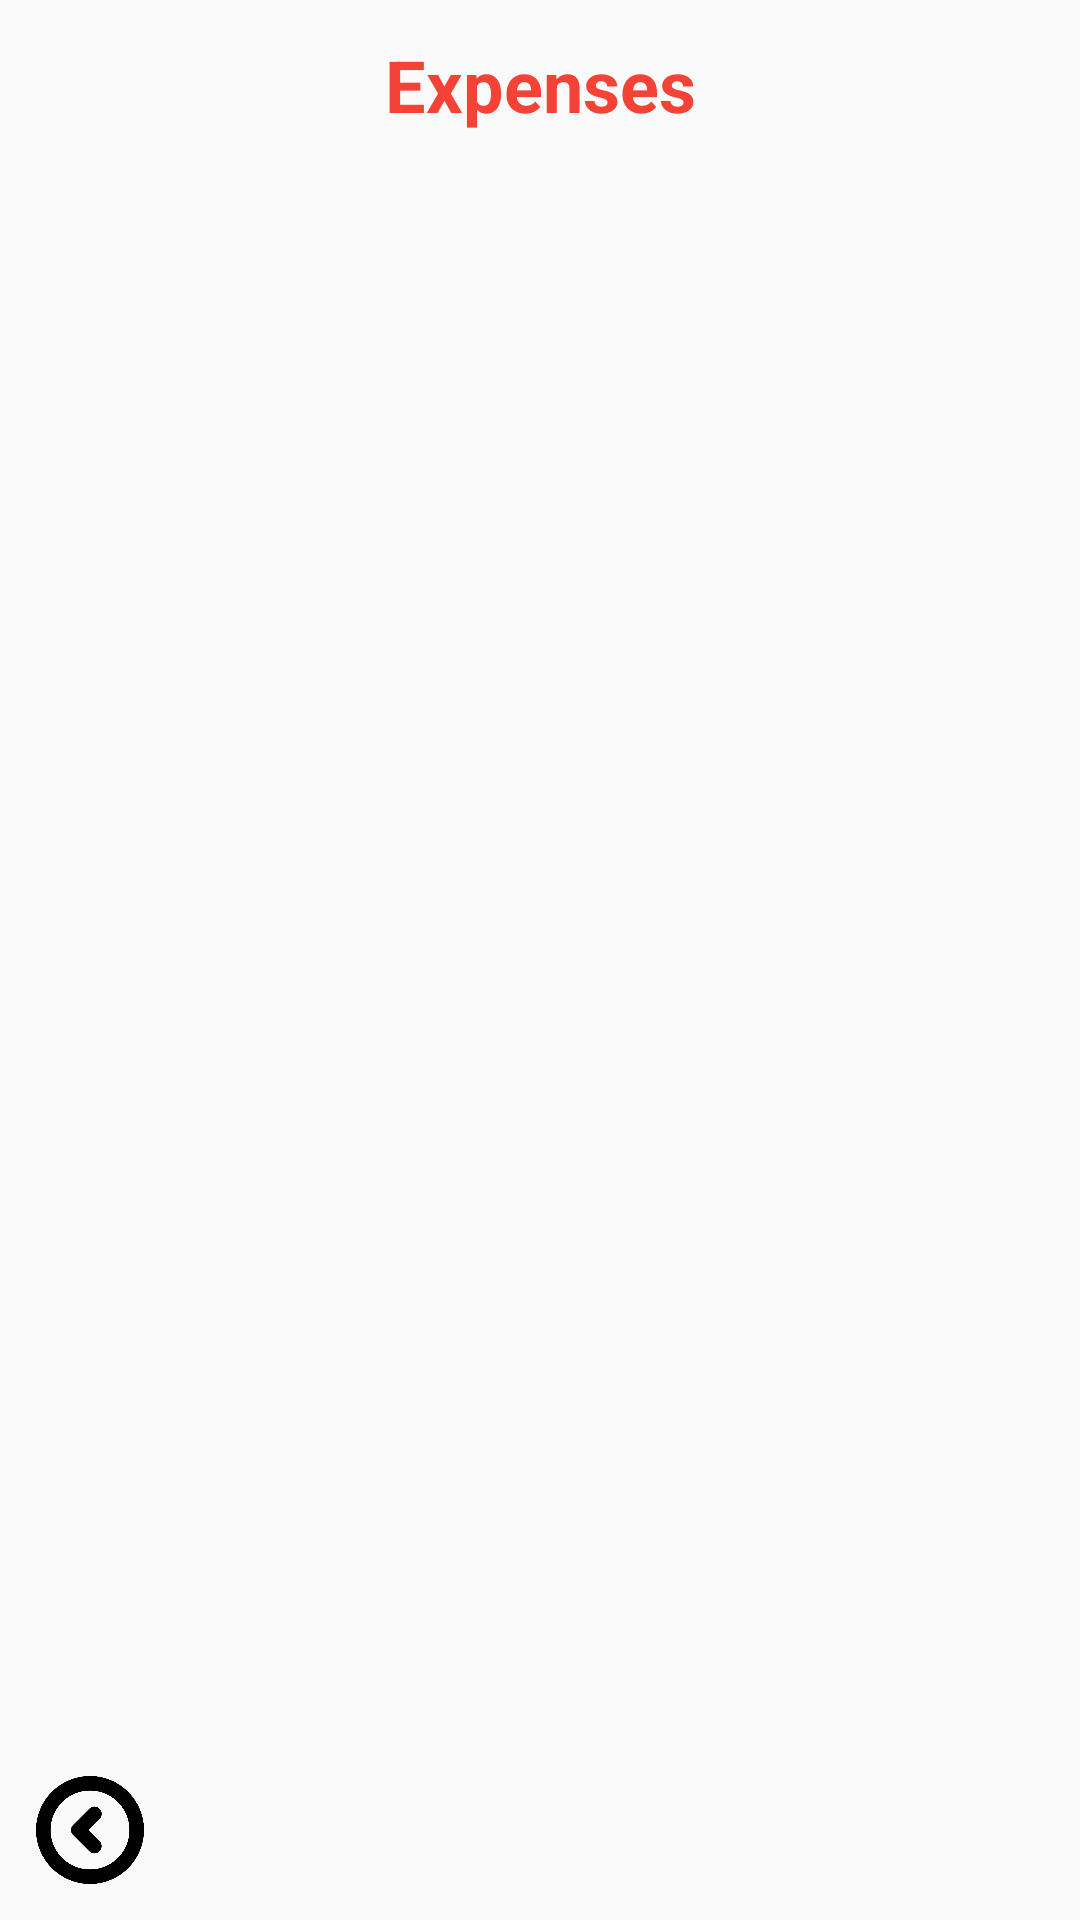

Icon bounding boxes for this 1080x1920 phone screenshot, format (x1, y1, x2, y2):
return: (36, 1776, 144, 1884)
